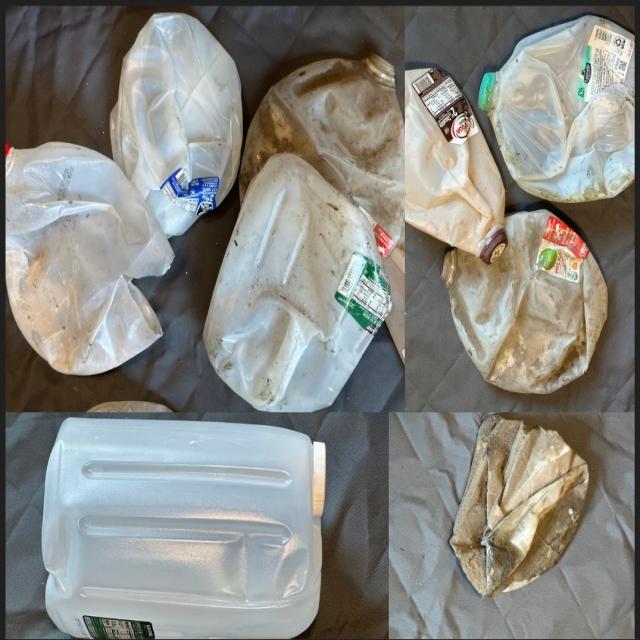milk-jug: (48, 416, 326, 640), (210, 151, 391, 407), (4, 138, 170, 377), (435, 216, 616, 400), (238, 40, 405, 239), (474, 17, 638, 200), (104, 10, 236, 234), (456, 419, 590, 600), (402, 48, 515, 253)
